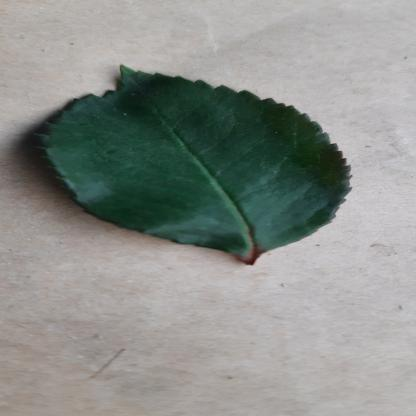normal: (34, 66, 360, 254)
